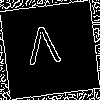V: (25, 25, 63, 75)
